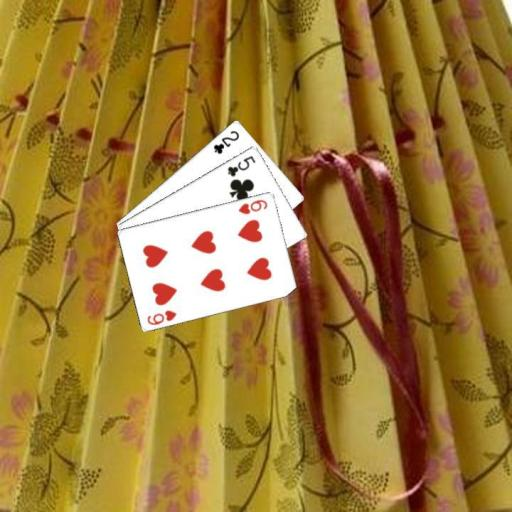2C: (211, 127, 241, 155)
5C: (224, 152, 257, 178)
6H: (144, 307, 178, 327), (235, 197, 269, 216)
